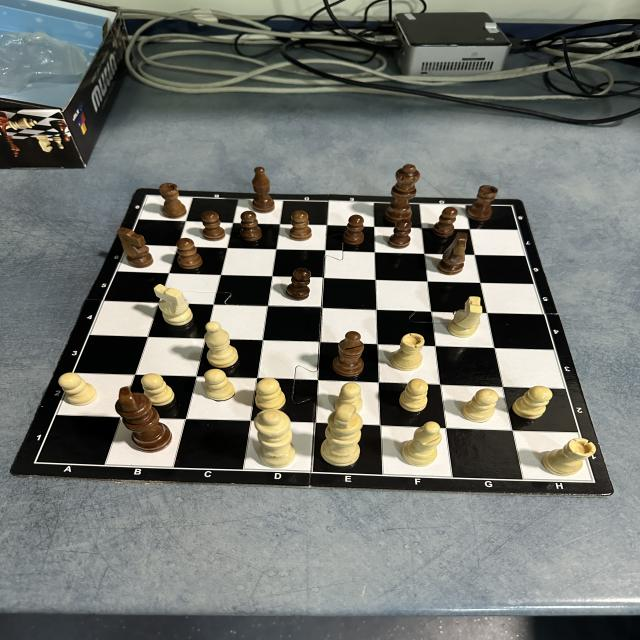Black-Bishop: (332, 331, 365, 378), (252, 167, 276, 213)
Black-King: (115, 386, 173, 453)
Black-Knight: (117, 227, 154, 268), (437, 232, 468, 275)
Black-Pawn: (176, 238, 203, 270), (286, 268, 312, 300), (201, 210, 226, 242), (432, 207, 458, 237), (387, 218, 412, 248), (289, 210, 312, 241), (240, 210, 262, 242), (342, 215, 364, 245)
Black-Queen: (384, 164, 420, 223)
Black-Rook: (467, 185, 499, 221), (159, 182, 187, 218)
White-Bishop: (401, 421, 442, 466), (203, 322, 239, 368)
White-King: (321, 403, 363, 467)
White-Knight: (154, 284, 194, 326), (447, 296, 483, 338)
White-Pawn: (512, 385, 554, 420), (58, 372, 98, 405), (462, 388, 499, 423), (140, 374, 176, 406), (203, 368, 235, 401), (400, 378, 430, 412), (255, 378, 286, 410), (334, 382, 364, 411)
White-Queen: (254, 410, 296, 468)
White-Rook: (542, 437, 598, 476), (390, 333, 424, 371)
